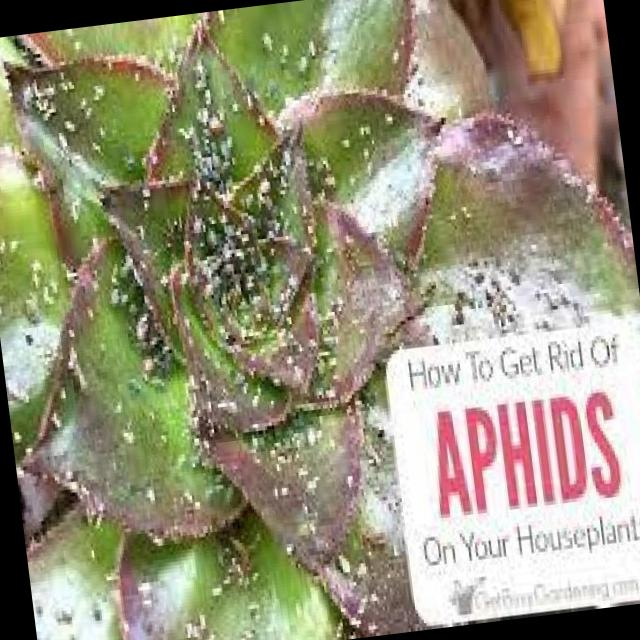aphid: (78, 219, 105, 260), (271, 135, 298, 170), (252, 21, 277, 58), (287, 42, 312, 79), (132, 347, 158, 382), (328, 544, 353, 578), (182, 206, 208, 238), (373, 99, 398, 132), (380, 37, 404, 71), (136, 475, 158, 512), (112, 421, 138, 452), (62, 27, 88, 58), (314, 166, 340, 197), (75, 291, 98, 325), (0, 226, 23, 260), (202, 573, 226, 603), (130, 585, 154, 615), (346, 552, 370, 582), (298, 416, 318, 451), (300, 30, 320, 64), (221, 89, 243, 119), (276, 532, 298, 562), (496, 116, 518, 146), (504, 122, 526, 152), (194, 78, 216, 108), (218, 390, 240, 420), (336, 461, 356, 491), (332, 125, 352, 155), (252, 170, 274, 197), (50, 122, 68, 154), (56, 315, 75, 345), (209, 388, 228, 418), (270, 472, 290, 500), (270, 34, 291, 60), (176, 304, 194, 334), (250, 104, 268, 133), (102, 263, 121, 290), (320, 346, 339, 373), (292, 193, 311, 220), (49, 376, 66, 406), (89, 116, 108, 142), (244, 384, 262, 411), (356, 154, 374, 181), (131, 571, 152, 594), (34, 276, 51, 304), (70, 90, 90, 113), (129, 213, 146, 240), (124, 62, 142, 85), (262, 389, 278, 412), (278, 306, 294, 328), (209, 9, 227, 25)
